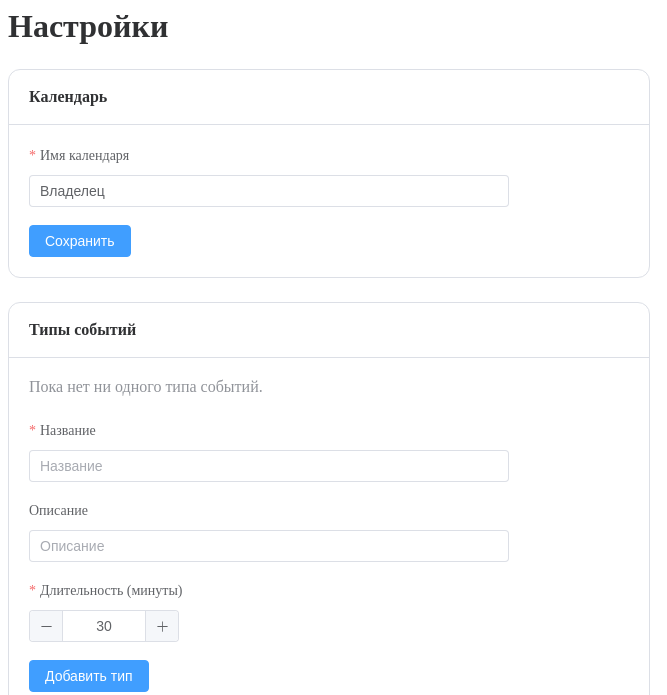
Test case: AdminPage › saves a new calendar name
Replace the text in the field with placeholder "Имя календаря" with "Команда Тота" at (269, 191), box [40,176,498,206]
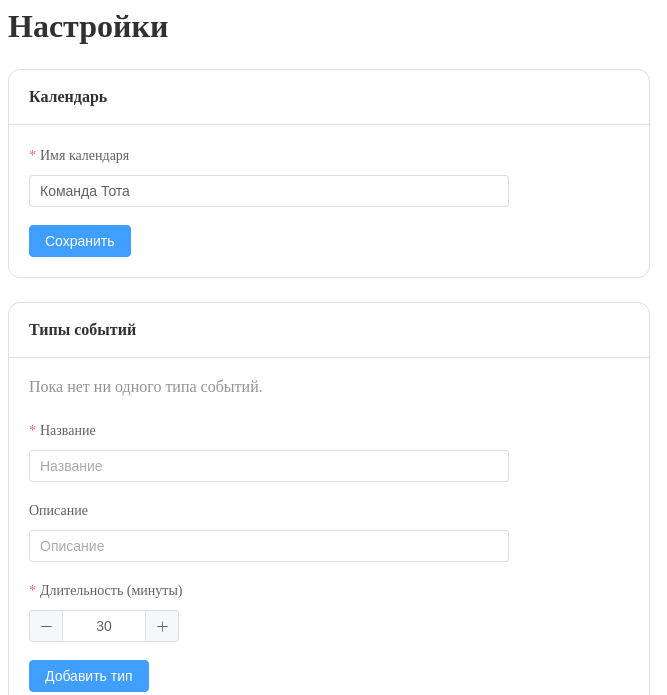
Submit the form with class "form--calendar", box [29,145,509,257]
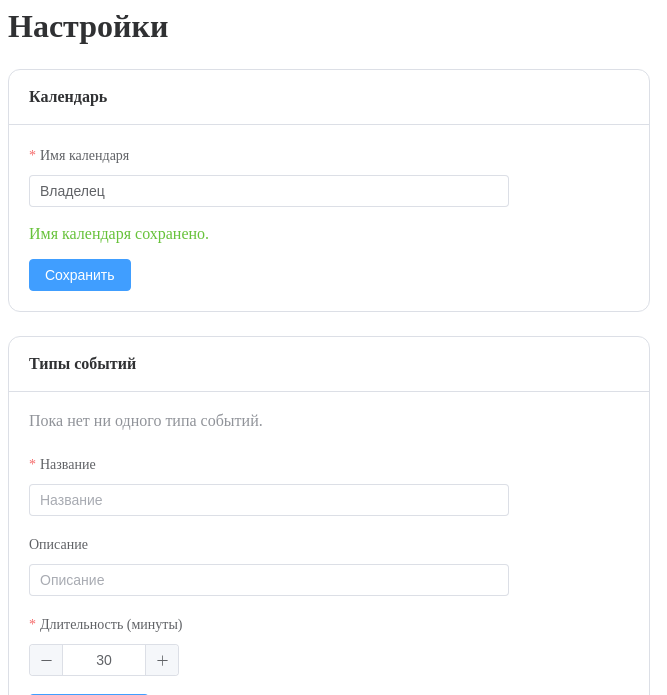
Expected: the text "Имя календаря сохранено" is shown, [29,225,209,242]
